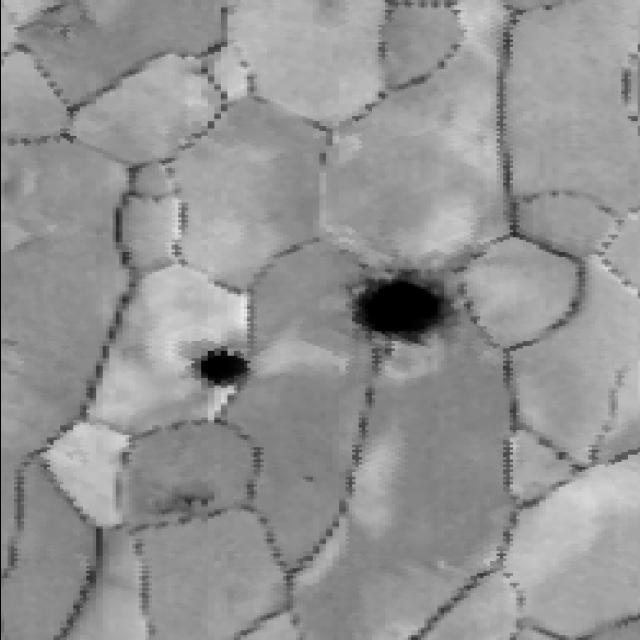good_void: (351, 273, 450, 353), (189, 344, 263, 393), (142, 480, 219, 523), (297, 468, 319, 484)
